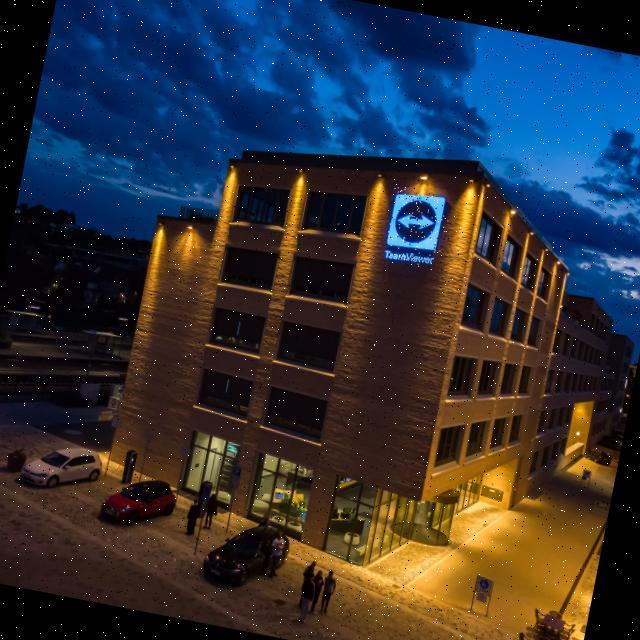TeamViewer: (381, 187, 453, 273)
